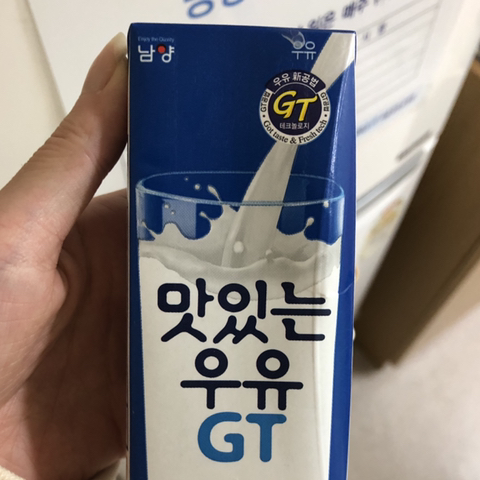milk: (127, 20, 356, 479)
